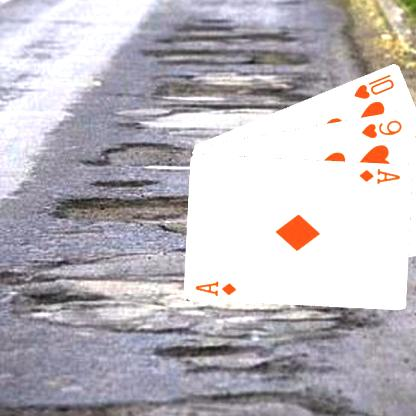10H: (351, 71, 396, 100)
9H: (358, 116, 404, 140)
AD: (356, 165, 402, 186), (193, 277, 238, 297)
